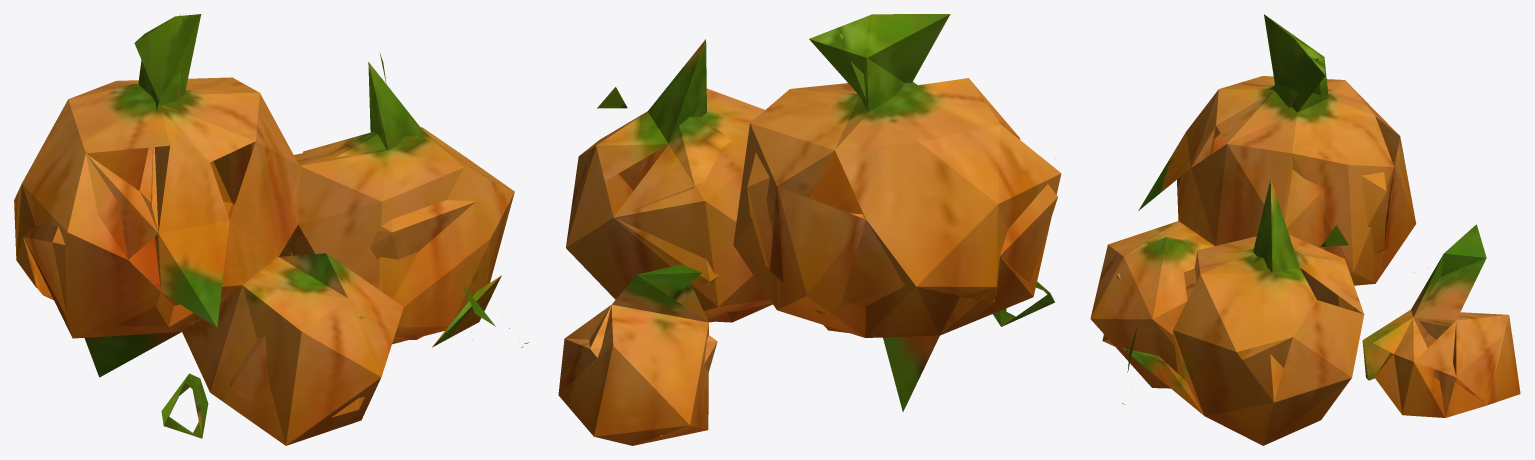
The model's file is pumpkins.glb.
3 views of the same model, side by side, from view 1: azimuth 30°, elevation 25°; view 2: azimuth 150°, elevation 25°; view 3: azimuth 270°, elevation 25° (orthographic). The views are drawn at different scales.
Visible parts, largest first — view 1: pumpkins; view 2: pumpkins; view 3: pumpkins.
Part boxes in pixels (bbox=[...]): pumpkins: bbox=[14, 14, 528, 445]; pumpkins: bbox=[558, 14, 1061, 445]; pumpkins: bbox=[1090, 14, 1520, 445].
Size of the model in its own units: 1.59 by 1.26 by 1.54.
Materials: 1 (1 with a texture image).
